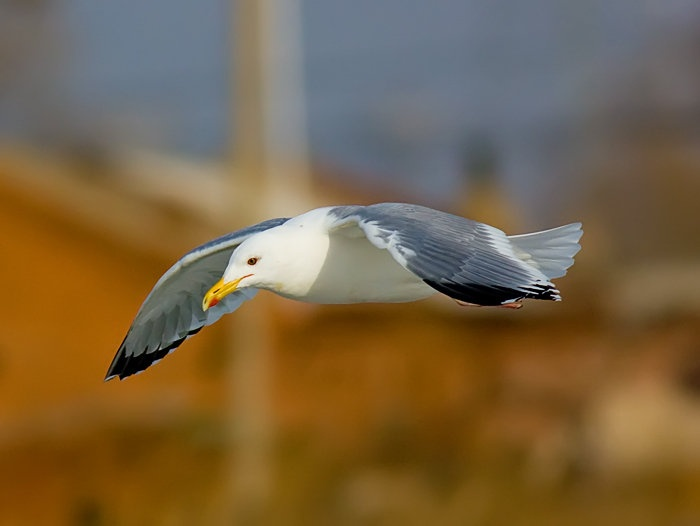bird: (96, 193, 590, 387)
